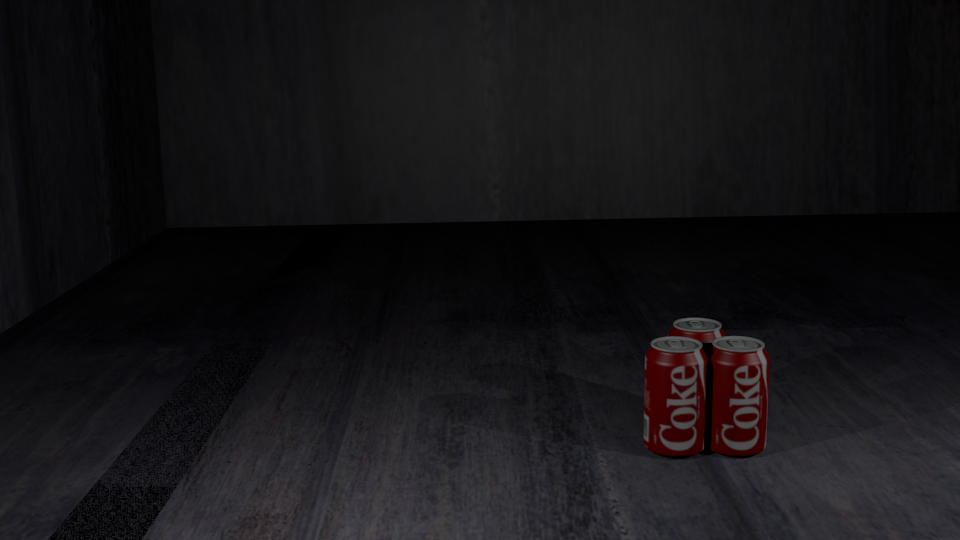cola_can: (706, 336, 769, 451), (644, 337, 706, 453), (668, 318, 725, 428)
